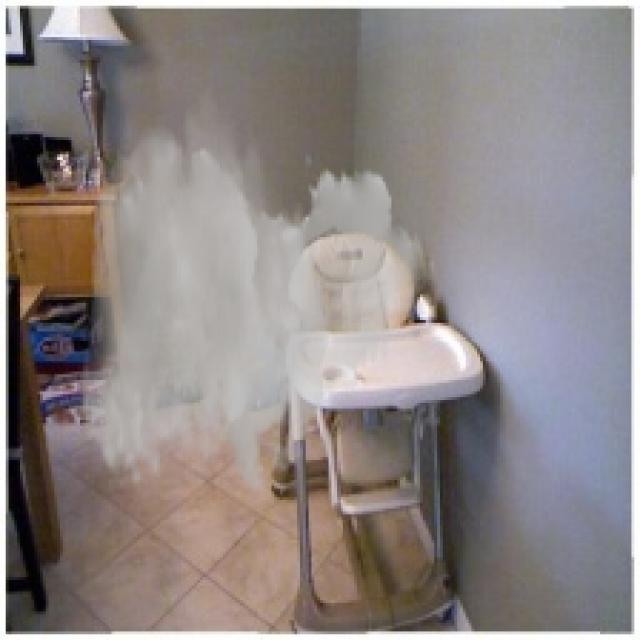smoke: (80, 80, 437, 494)
